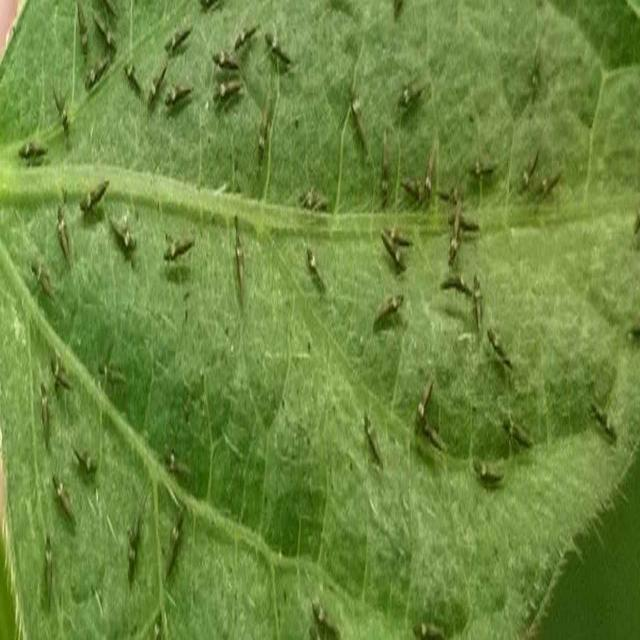Thrip-Adult-: (345, 73, 370, 169), (498, 403, 540, 457), (161, 502, 185, 590), (126, 484, 145, 587), (52, 201, 79, 272), (160, 222, 198, 270), (470, 449, 507, 496), (52, 468, 80, 530), (28, 254, 61, 305), (363, 404, 386, 477), (485, 318, 516, 372), (524, 54, 544, 135), (528, 162, 563, 208), (469, 264, 487, 352), (106, 208, 138, 257), (40, 526, 56, 622), (422, 124, 440, 208), (262, 26, 294, 72), (414, 366, 435, 435), (50, 76, 74, 136), (377, 121, 393, 211), (446, 194, 466, 265), (162, 436, 192, 483), (371, 286, 406, 326), (304, 237, 329, 292), (309, 599, 343, 639), (381, 215, 417, 252), (78, 175, 110, 216), (255, 97, 272, 174), (440, 266, 471, 308), (210, 75, 245, 111), (89, 7, 117, 51), (38, 369, 52, 456), (518, 142, 545, 187), (464, 148, 499, 182), (397, 78, 428, 115), (380, 234, 407, 276), (16, 136, 50, 169), (48, 354, 76, 394), (122, 51, 144, 101), (163, 24, 192, 61), (234, 204, 246, 293), (72, 441, 100, 478), (147, 60, 169, 107), (96, 362, 129, 393), (230, 22, 264, 52), (399, 170, 423, 212), (73, 0, 91, 55), (162, 83, 196, 111), (210, 43, 241, 73), (84, 56, 110, 91), (413, 616, 446, 639)
